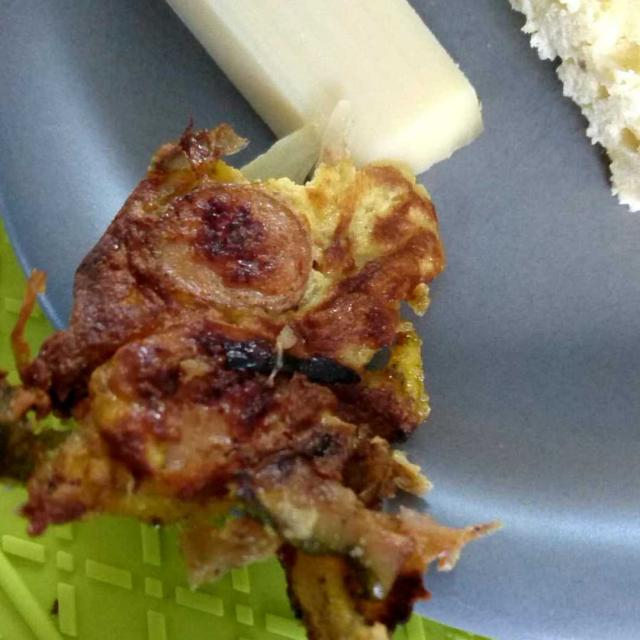omelette-plain: (22, 118, 466, 621)
